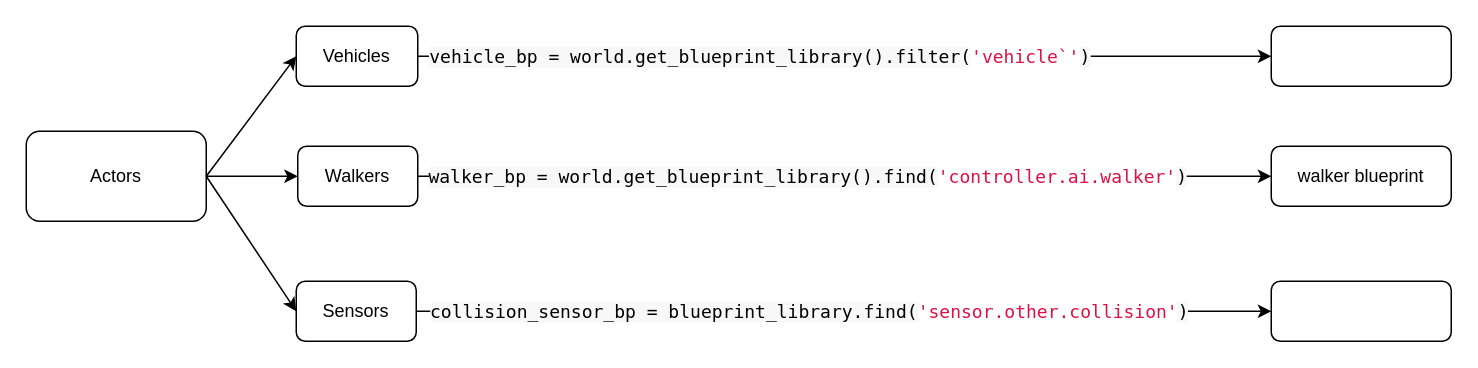
Some shapes in this 1478 by 368 pixel diagram are drawn without their labels. Here are the shapes that lost their labels. From the top down, the box of each, then its label:
(1270, 25, 1451, 86): vehicle blueprint
(1270, 280, 1451, 341): collision blueprint
